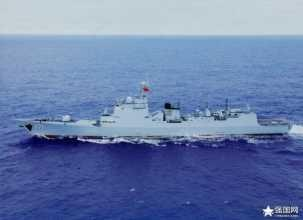warship: (13, 77, 298, 142)
